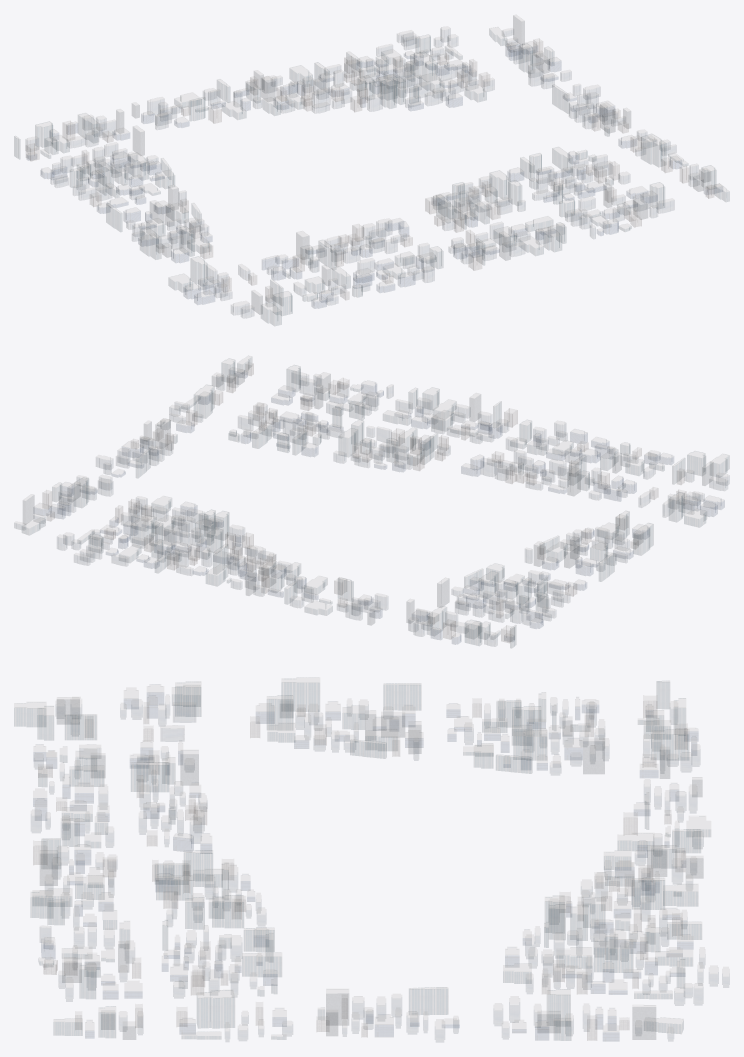
Rendered from 周边建筑.glb.
3 renders of one model, top to bottom at view 1: azimuth 30°, elevation 25°; view 2: azimuth 150°, elevation 25°; view 3: azimuth 270°, elevation 25°, orthographic. The views are drawn at different scales.
Visible parts, largest first — view 1: building_004.001, building_005.001, building_002.001, building_003.001, building_009.003; view 2: building_004.001, building_005.001, building_002.001, building_003.001, building_009.003; view 3: building_005.001, building_004.001, building_002.001, building_003.001, building_009.003.
Boxes of the visible parts, x1,y1,x2,y2 form: building_004.001: [26, 26, 699, 318]; building_005.001: [14, 27, 729, 325]; building_002.001: [27, 41, 722, 308]; building_003.001: [26, 38, 713, 301]; building_009.003: [87, 15, 710, 314]; building_004.001: [14, 371, 729, 646]; building_005.001: [22, 356, 729, 647]; building_002.001: [34, 367, 724, 644]; building_003.001: [43, 362, 685, 642]; building_009.003: [23, 369, 713, 624]; building_005.001: [14, 678, 710, 1040]; building_004.001: [31, 695, 729, 1041]; building_002.001: [33, 684, 697, 1040]; building_003.001: [33, 695, 687, 1040]; building_009.003: [40, 697, 702, 1039].
Size of the model in its own units: 1282 by 56.94 by 1120.
Materials: 6 (6 with a texture image).
